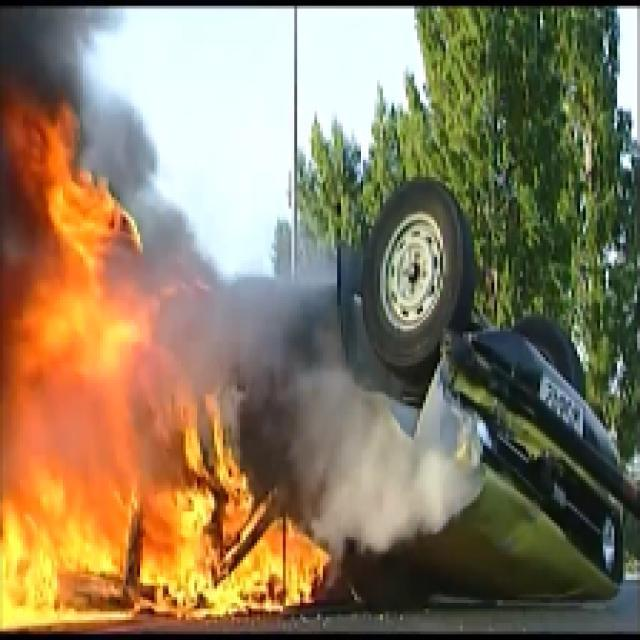Fire: (2, 100, 332, 640)
Smoke: (3, 6, 80, 100)
